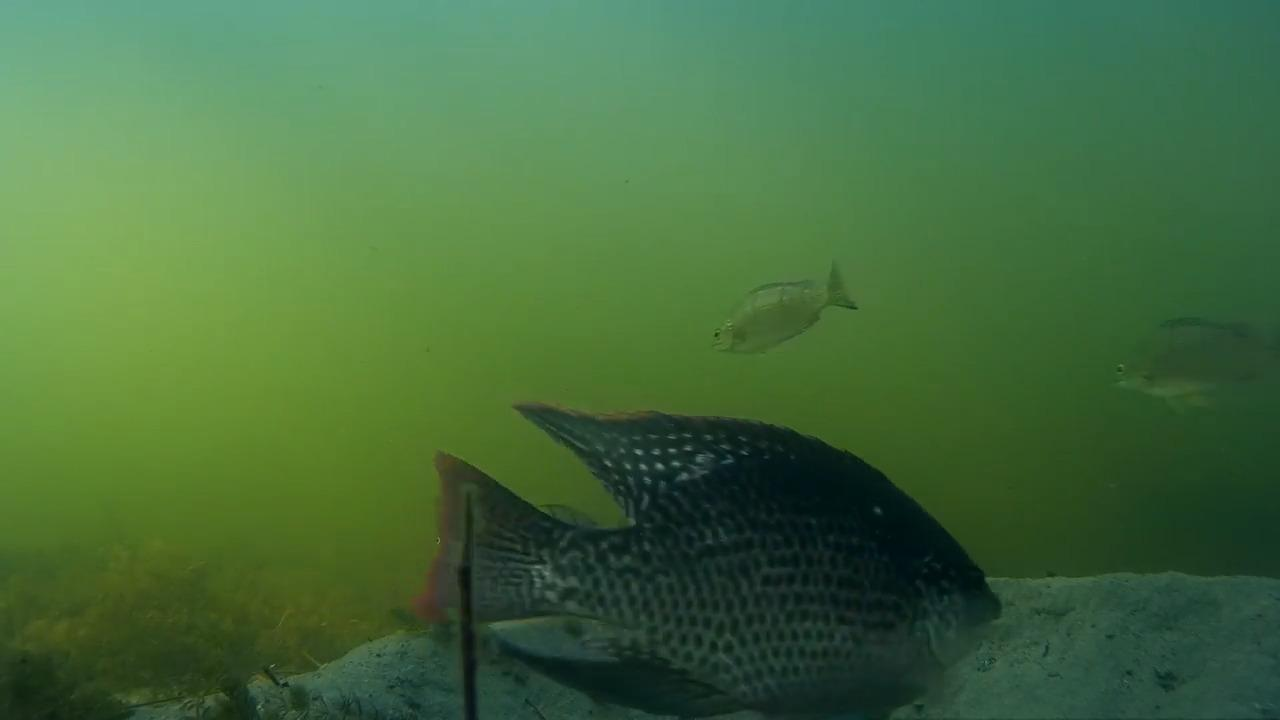Tilapia: (417, 396, 1004, 720), (1113, 300, 1280, 422), (701, 256, 854, 360)
